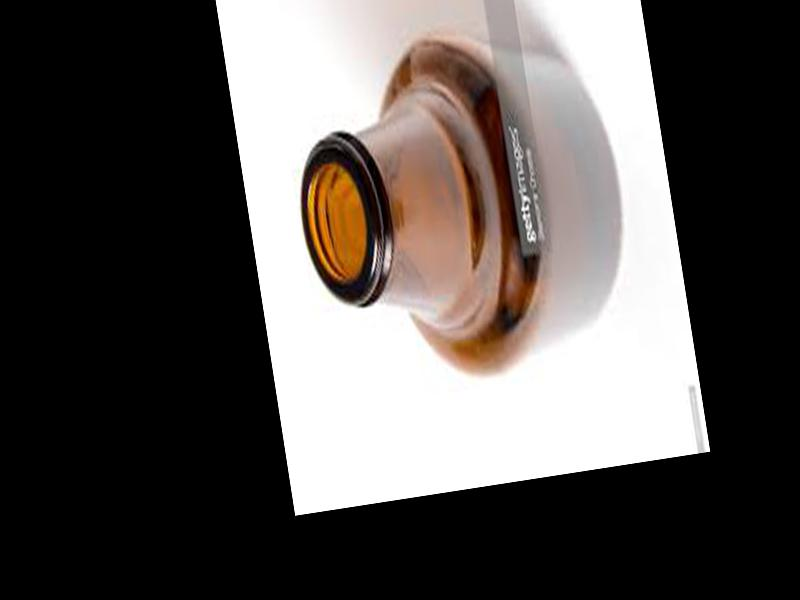Beer: (275, 8, 645, 398)
